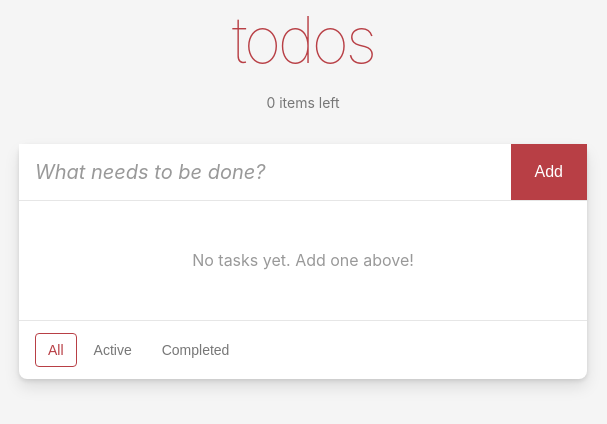
Test case: TodoApp › toggles completion and filters tasks
This screenshot has width=607, height=424.
Type "First task" into the field named "New todo" at (265, 172), box [19,144,510,200]
Press Enter in the field named "New todo", box [19,144,510,200]
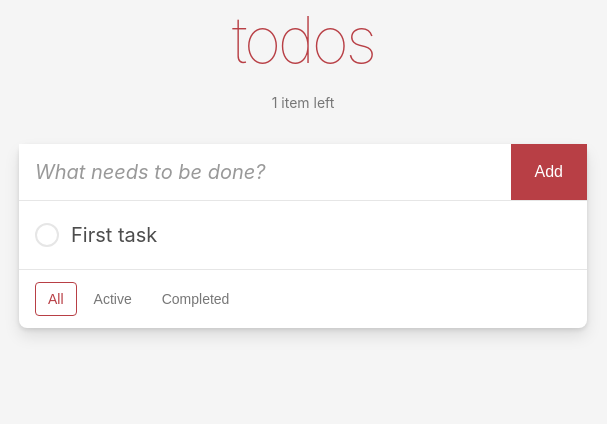
Type "Second task" into the field named "New todo" at (265, 172), box [19,144,510,200]
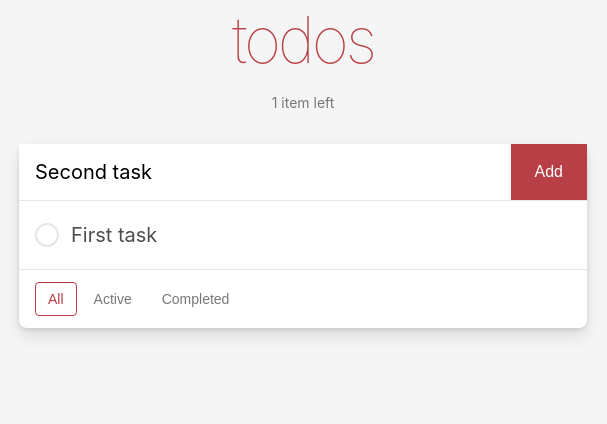
Press Enter in the field named "New todo", box [19,144,510,200]
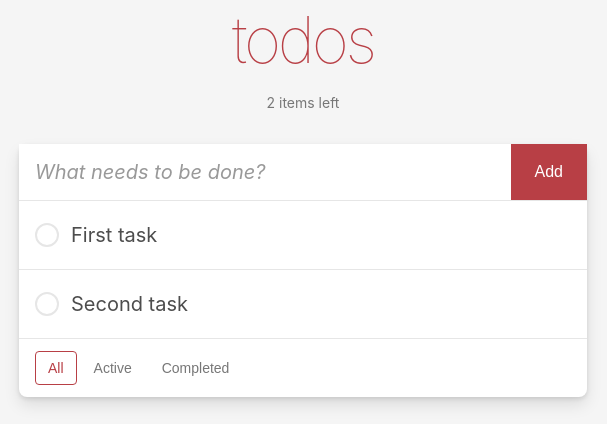
Click the checkbox named "mark \"first task\"" at (96, 235), box [35,223,157,247]
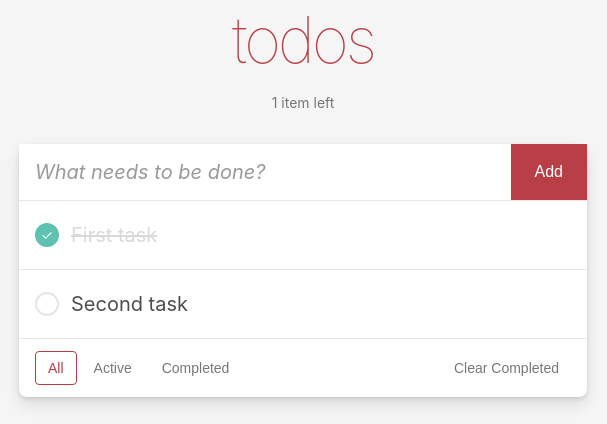
Click the button "Completed" at (196, 368), box [149,351,242,385]
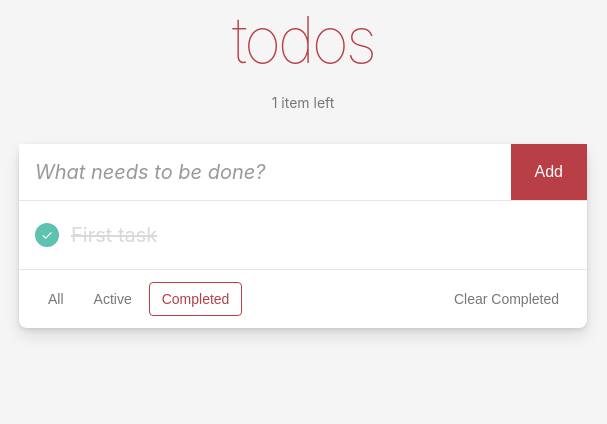
Expected: the text "First task" is shown, [71,221,157,249]
Expected: the text "Second task" is gone
Click the button "Active" at (113, 299), box [81,282,145,316]
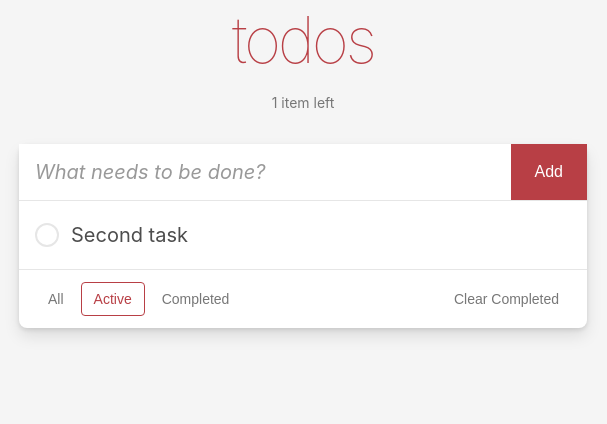
Expected: the text "Second task" is shown, [71,221,188,249]
Expected: the text "First task" is gone
